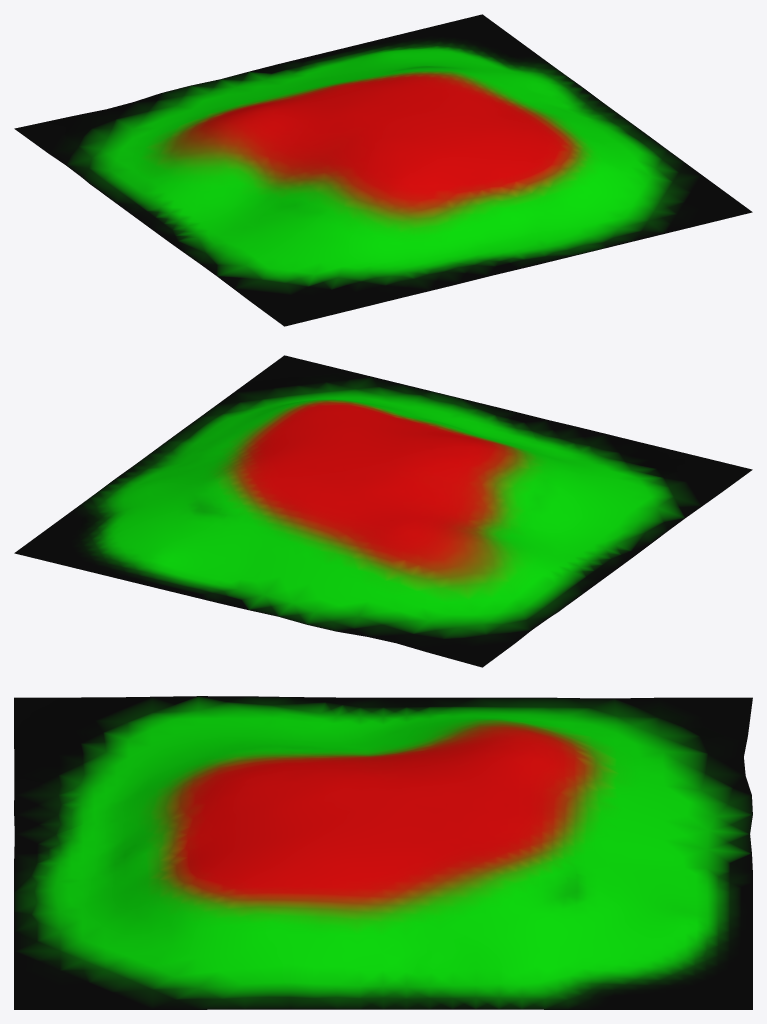
The model's file is Terrain 2.fbx.
The picture shows the model from 3 angles, top to bottom: view 1: azimuth 30°, elevation 25°; view 2: azimuth 150°, elevation 25°; view 3: azimuth 270°, elevation 25°; orthographic projection. The views are drawn at different scales.
Parts seen in each view (by area): view 1: Plane; view 2: Plane; view 3: Plane.
Part boxes in pixels (x1,y1,x2,y2): Plane: [14, 14, 752, 326]; Plane: [14, 355, 752, 667]; Plane: [14, 696, 752, 1009].
Bounding box in the file's own units: 50024 × 4702 × 50001.
